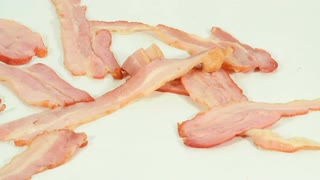bacon: (56, 15, 253, 100), (175, 79, 320, 157)
